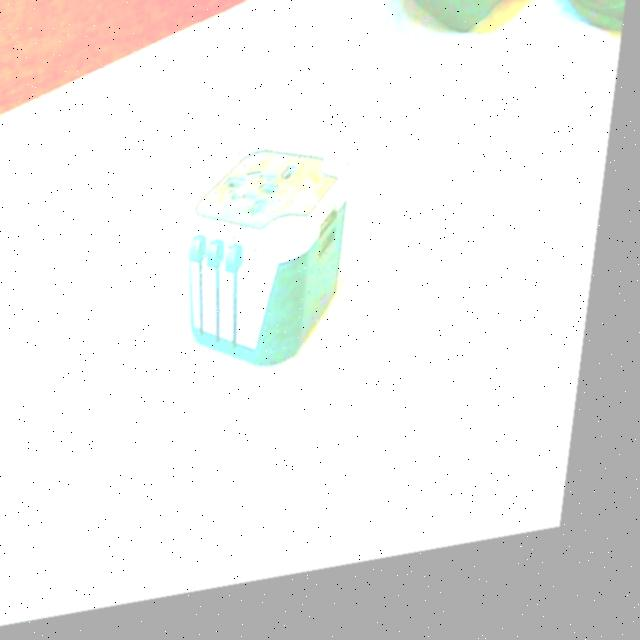adapter: (178, 143, 363, 391)
